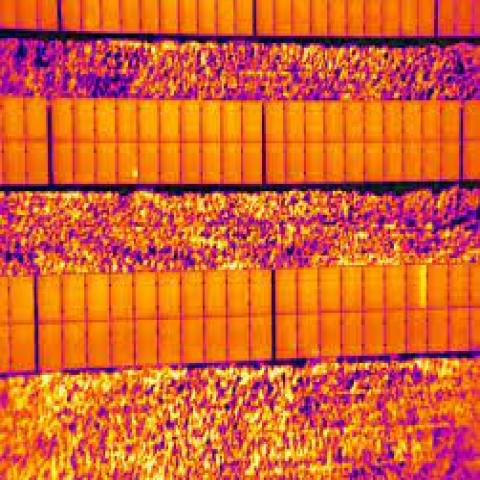fault: (419, 265, 426, 306), (132, 170, 138, 179)
